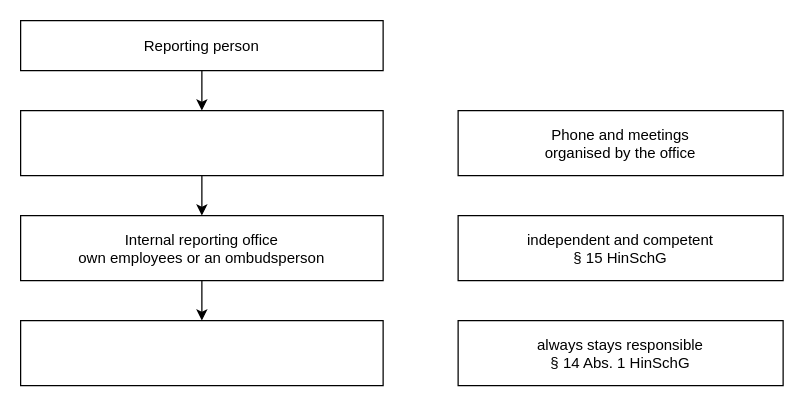
This 804x406 diagram has some shape labels left out. The shapes that lost their labels are listed below. From the top down, each one's centre as x and y in pixels, then its label:
the point at 201,142: Whistleblowing software written channel, tracks deadlines
the point at 201,352: Employer remedies the breach
